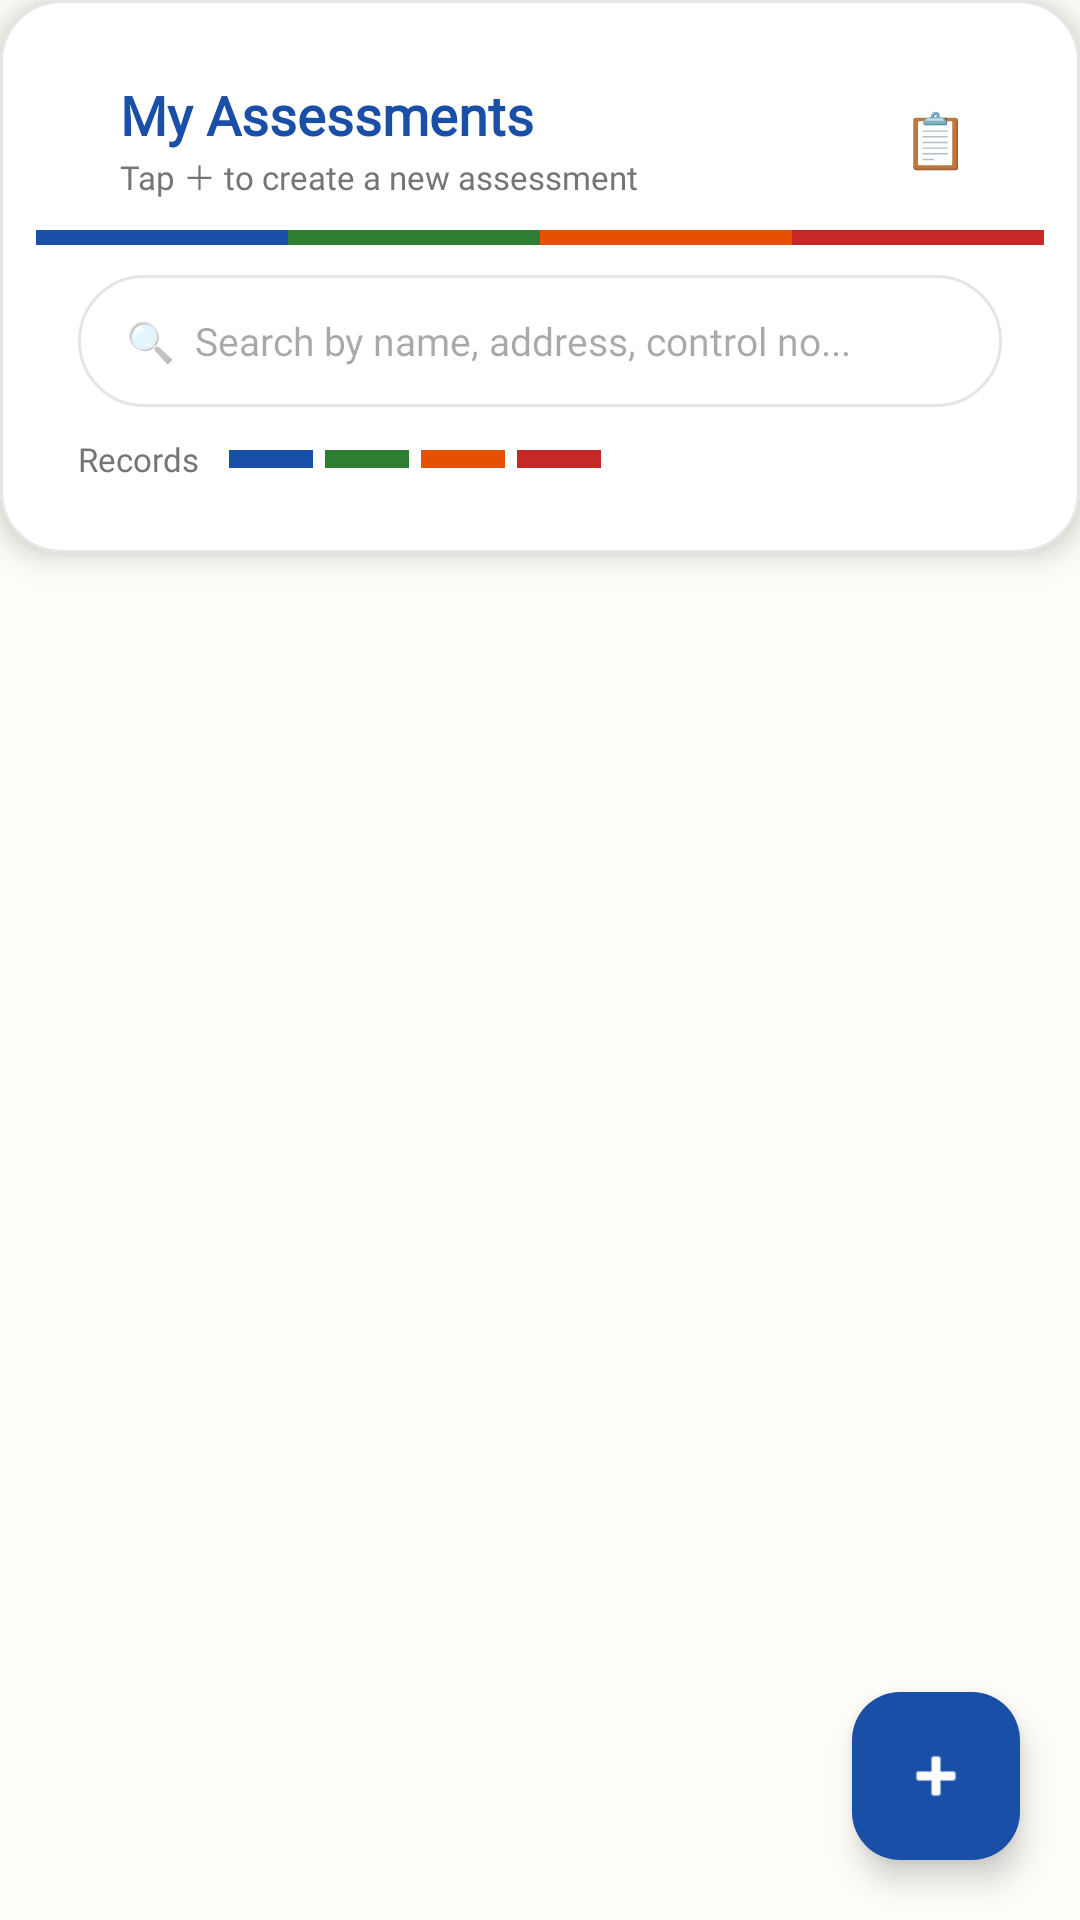

Icons on this 1080 × 1920 Android screen, each with its box as (x1, y1, x2, y2):
New Assessment: (852, 1692, 1020, 1860)
